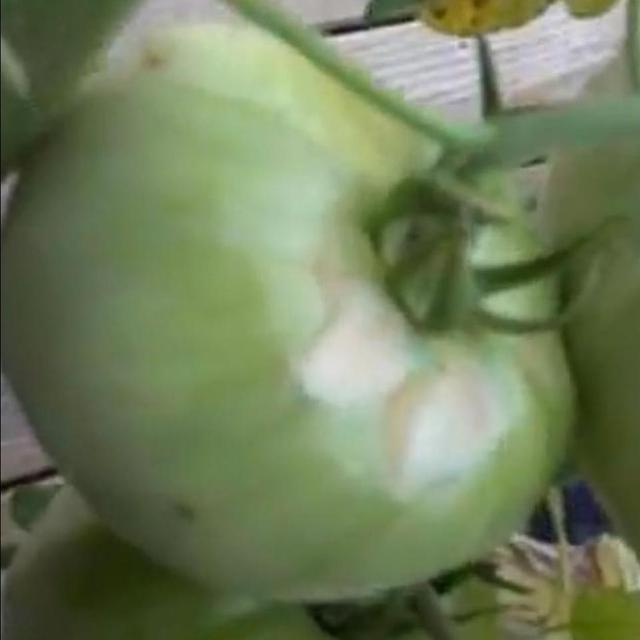Sunscald Fruit: (180, 167, 343, 354)
